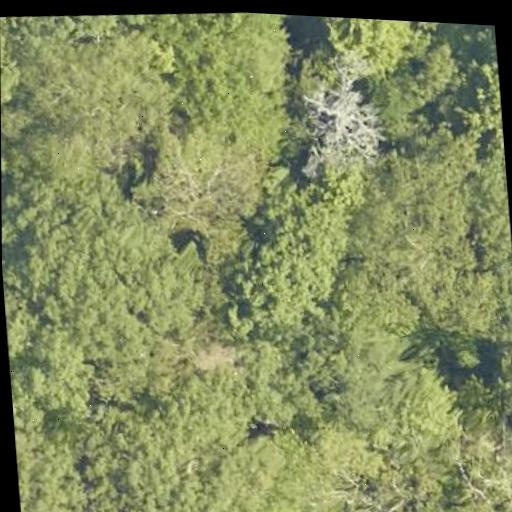tree-top: (82, 354, 265, 509), (1, 144, 152, 329), (8, 15, 176, 180), (350, 144, 484, 317), (228, 189, 351, 337), (176, 9, 302, 148), (267, 322, 395, 455), (178, 422, 346, 512), (133, 127, 262, 244), (124, 237, 216, 343), (299, 76, 389, 179), (380, 369, 470, 467), (465, 140, 512, 324), (311, 16, 433, 85), (18, 321, 100, 418), (15, 433, 95, 512), (456, 67, 505, 161), (0, 16, 26, 114)
